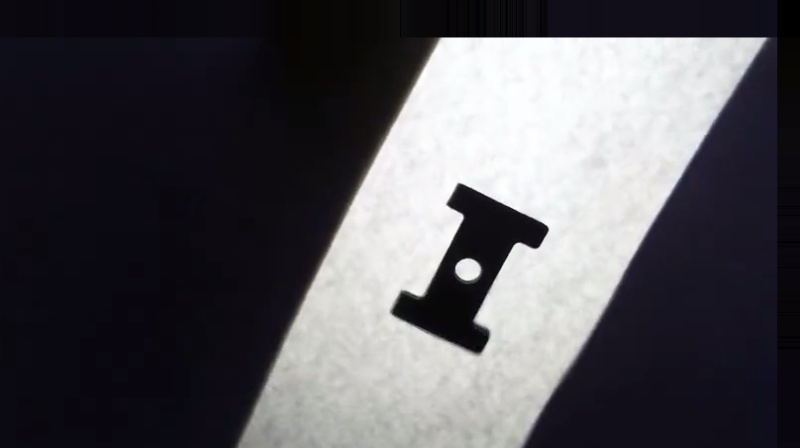O002: (383, 183, 551, 358)
